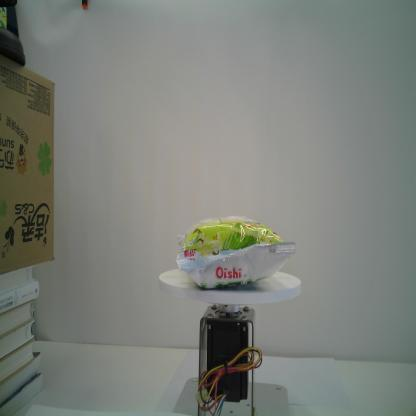Puffed Food: (175, 212, 295, 289)
